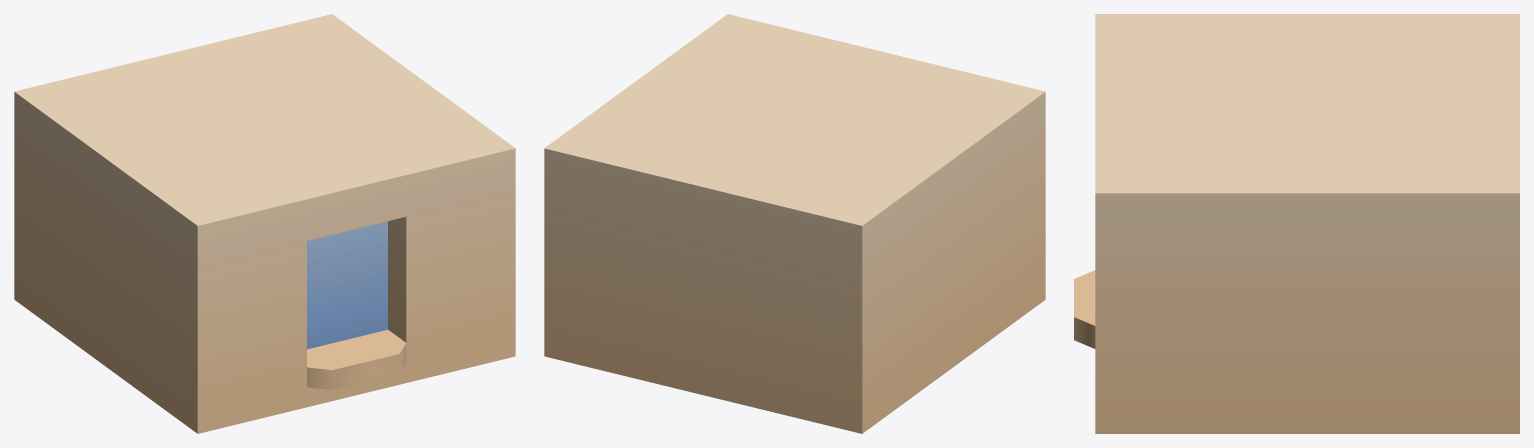
File: kenney-modular-buildings-building-window-sill.glb
3 renders of one model, left to right at view 1: azimuth 30°, elevation 25°; view 2: azimuth 150°, elevation 25°; view 3: azimuth 270°, elevation 25°, orthographic. The views are drawn at different scales.
Parts seen in each view (by area): view 1: building-window-sill; view 2: building-window-sill; view 3: building-window-sill.
Part boxes in pixels (x1=…): building-window-sill: x1=14, y1=14, x2=515, y2=433; building-window-sill: x1=544, y1=14, x2=1045, y2=433; building-window-sill: x1=1074, y1=14, x2=1519, y2=433.
Bounding box in the file's own units: 1 × 0.6251 × 1.05.
1 material, 1 textured.
